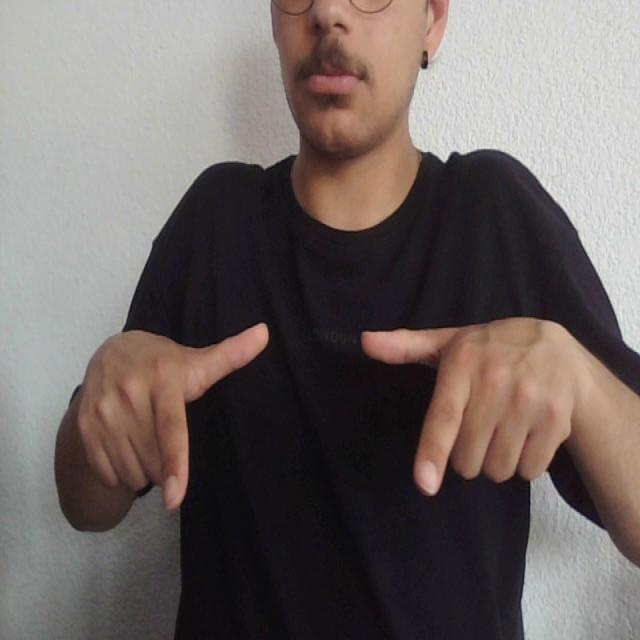Nerede: (142, 305, 478, 536)
